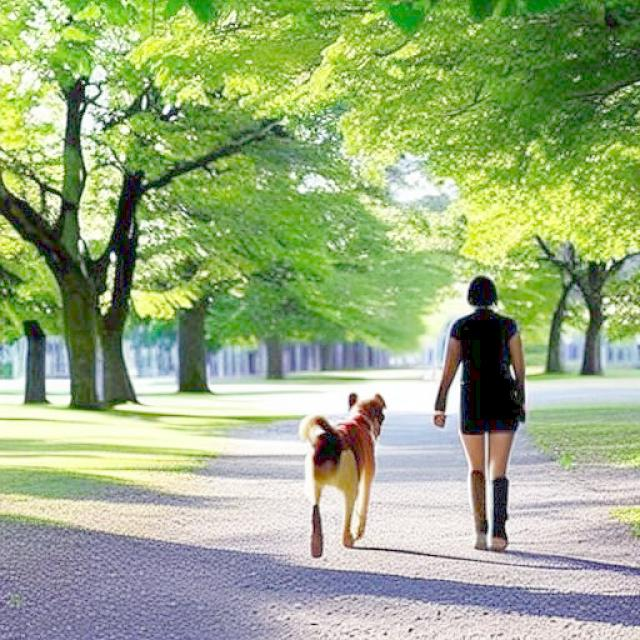Unleashed_Dog: (299, 380, 517, 560)
